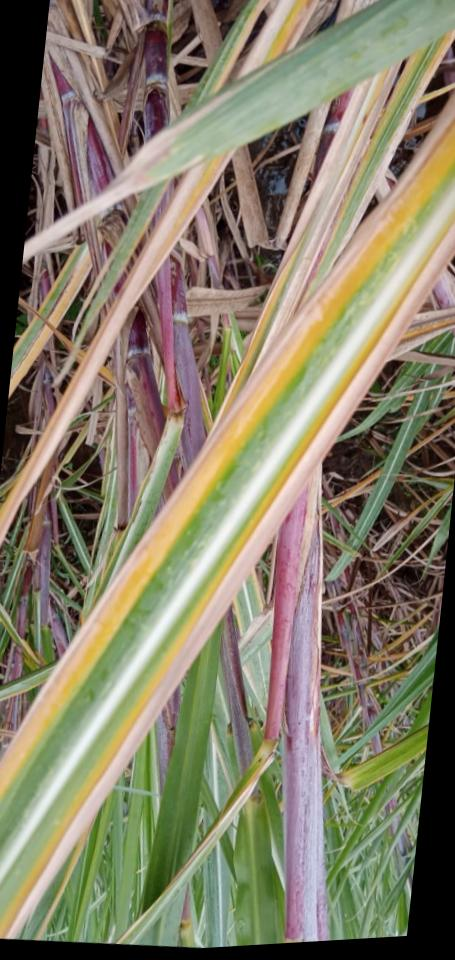RedRot: (11, 323, 45, 376), (45, 263, 76, 320)
Yellow: (0, 214, 455, 939), (0, 99, 455, 799), (220, 241, 301, 419), (140, 143, 233, 285), (347, 46, 425, 199), (47, 253, 90, 328), (8, 326, 51, 399), (37, 246, 80, 313), (266, 0, 309, 64), (13, 315, 36, 353)
